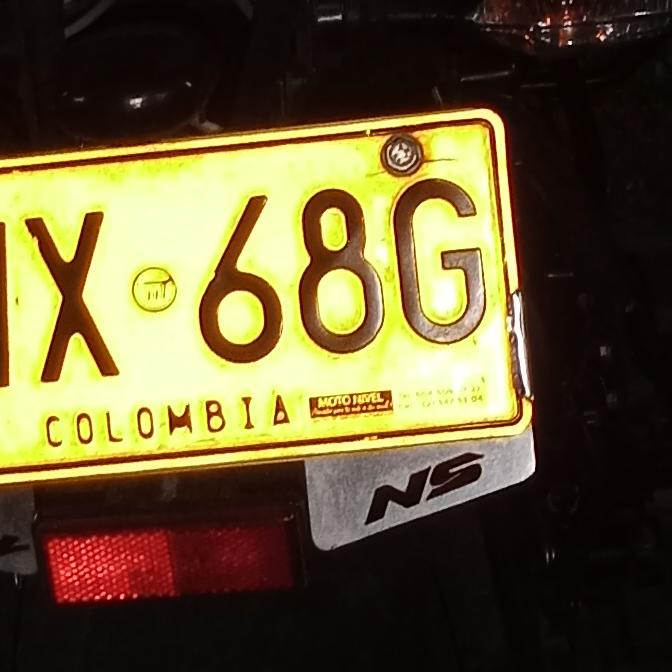plates: (0, 103, 534, 475)
